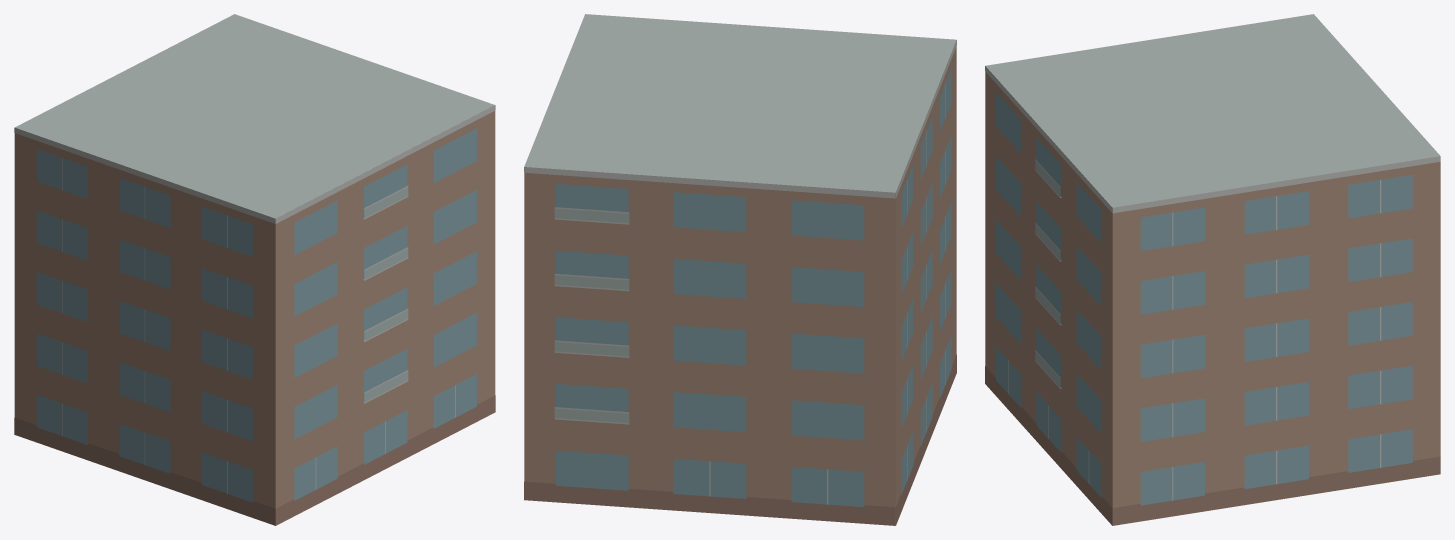
The model's file is survey-upis-32853979.glb.
3 renders of one model, left to right at view 1: azimuth 30°, elevation 25°; view 2: azimuth 150°, elevation 25°; view 3: azimuth 270°, elevation 25°, orthographic. The views are drawn at different scales.
Visible parts, largest first — view 1: survey-upis-32853979.tmp; view 2: survey-upis-32853979.tmp; view 3: survey-upis-32853979.tmp.
Part boxes in pixels (box(x1,y1,x2,y2)): survey-upis-32853979.tmp: box(14, 14, 495, 525); survey-upis-32853979.tmp: box(524, 14, 956, 525); survey-upis-32853979.tmp: box(985, 14, 1440, 525).
Size of the model in its own units: 18.18 by 13.9 by 18.05.
